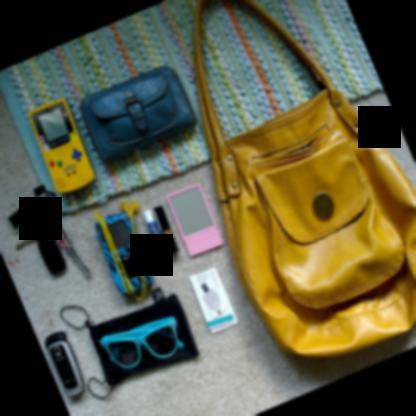handbag: (194, 0, 416, 359)
